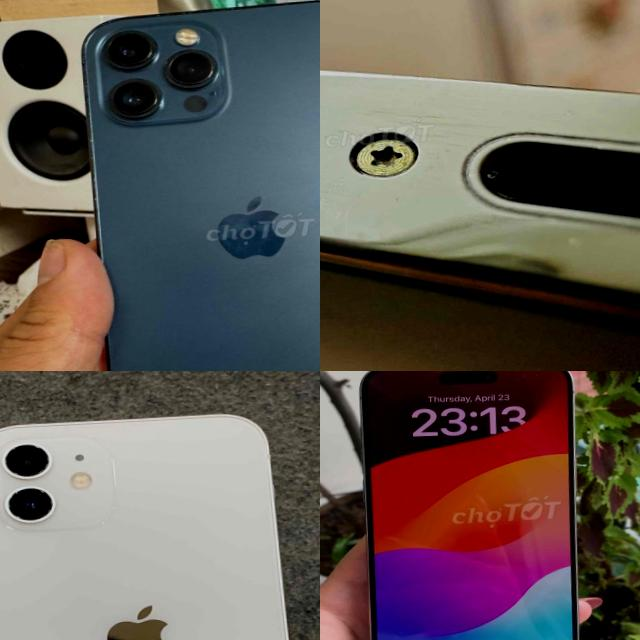gen_12_13: (320, 15, 640, 371), (79, 0, 320, 371), (0, 396, 316, 640)
gen_15: (336, 371, 591, 640)
scratch: (320, 40, 437, 276)
